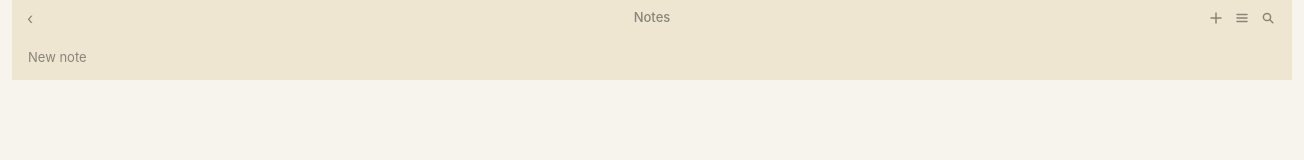
Scenario: the notes list › says so when there is nothing to list
The image size is (1304, 160).
Click the button named "Notes list" at (1242, 18), box [1230, 6, 1254, 30]
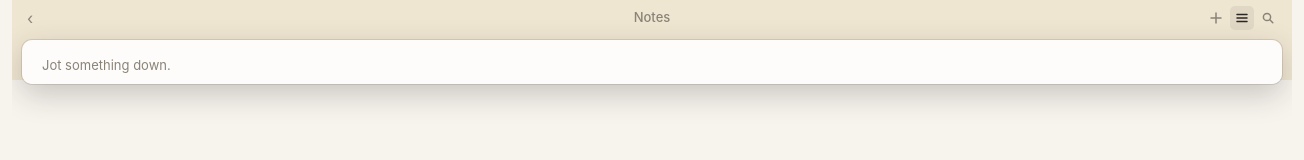
Expected: the list item "Jot something down." is shown, [42, 57, 171, 73]
